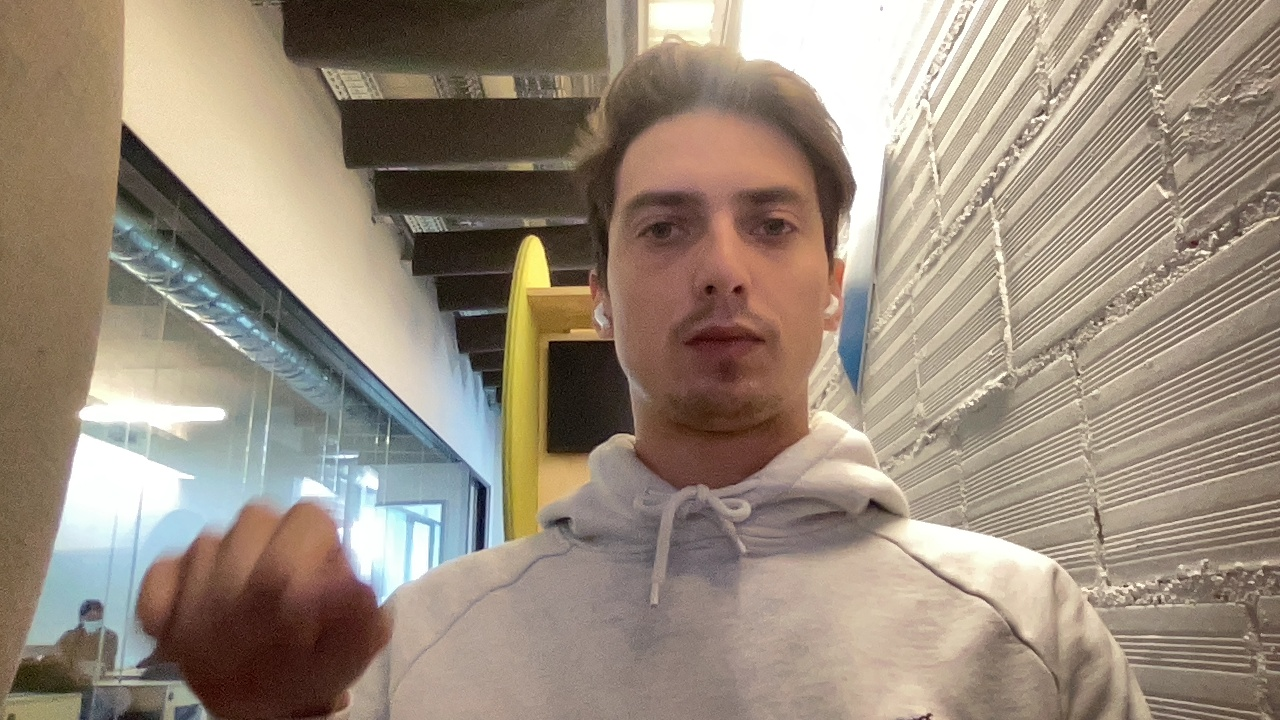yes: (97, 499, 398, 713)
